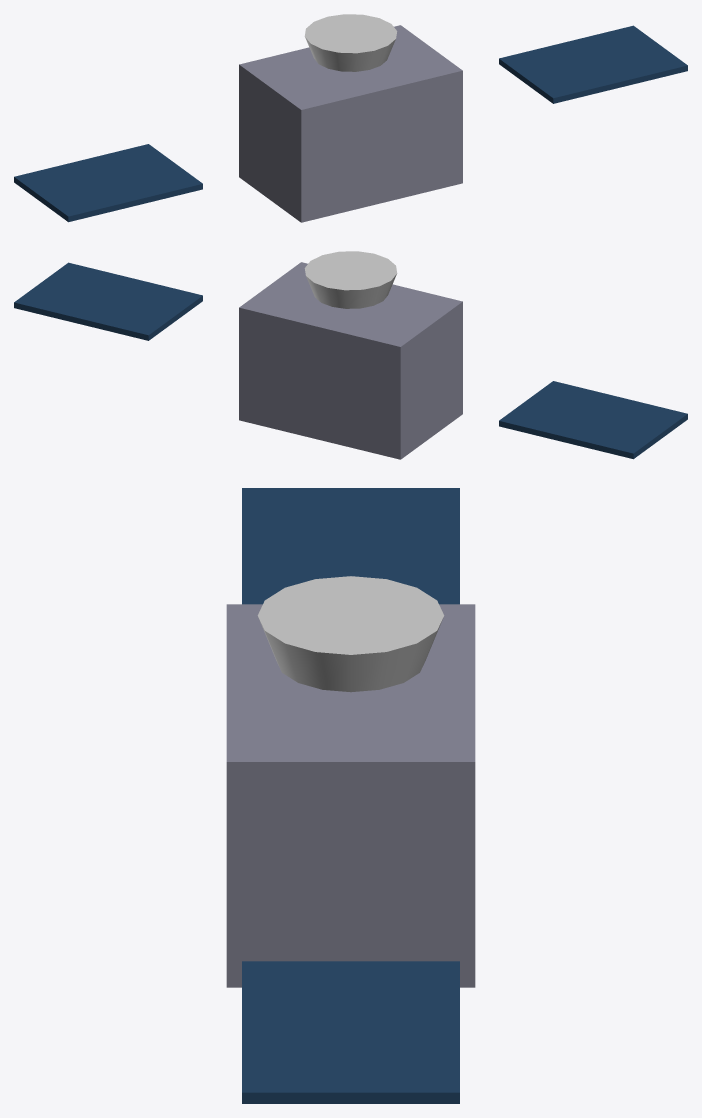
Rendered from satellite.glb.
3 views of the same model, one above another, from view 1: azimuth 30°, elevation 25°; view 2: azimuth 150°, elevation 25°; view 3: azimuth 270°, elevation 25° (orthographic). The views are drawn at different scales.
Size of the model in its own units: 2.3 by 0.52 by 0.4.
